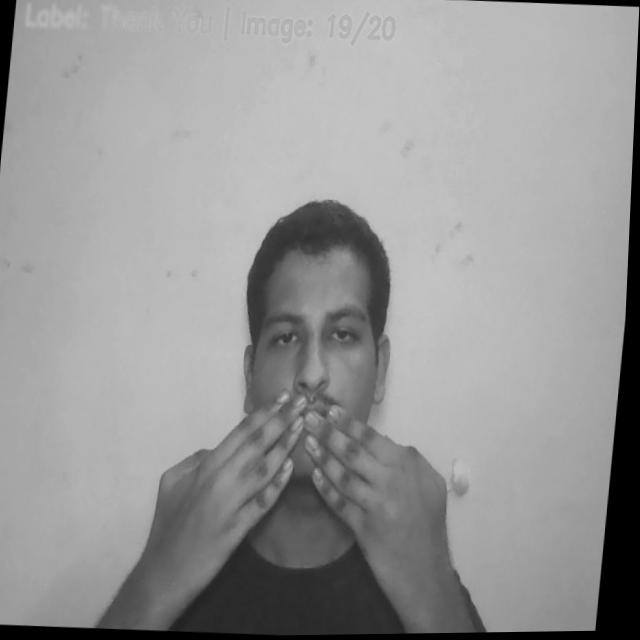Thank You: (156, 383, 463, 578)
